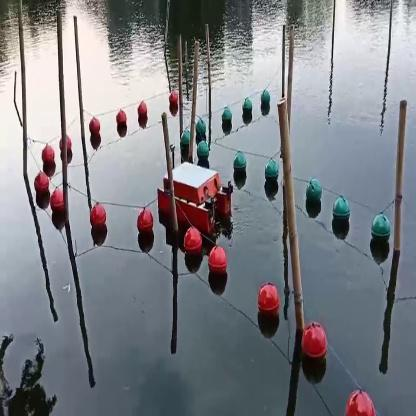green_buoy: (333, 196, 350, 238), (372, 212, 390, 251), (303, 176, 322, 210), (264, 158, 280, 194), (182, 125, 191, 160), (222, 108, 234, 132), (197, 140, 208, 166), (258, 88, 270, 111), (236, 154, 247, 178), (243, 96, 252, 120), (198, 120, 206, 138)
red_buoy: (302, 322, 326, 364), (258, 280, 278, 320), (207, 244, 226, 284), (134, 204, 154, 242), (346, 388, 373, 415), (32, 168, 51, 200), (183, 229, 202, 260), (89, 202, 107, 233), (85, 116, 103, 144), (38, 146, 58, 171), (52, 186, 64, 220), (169, 92, 180, 118), (116, 109, 127, 132), (138, 100, 148, 122)
